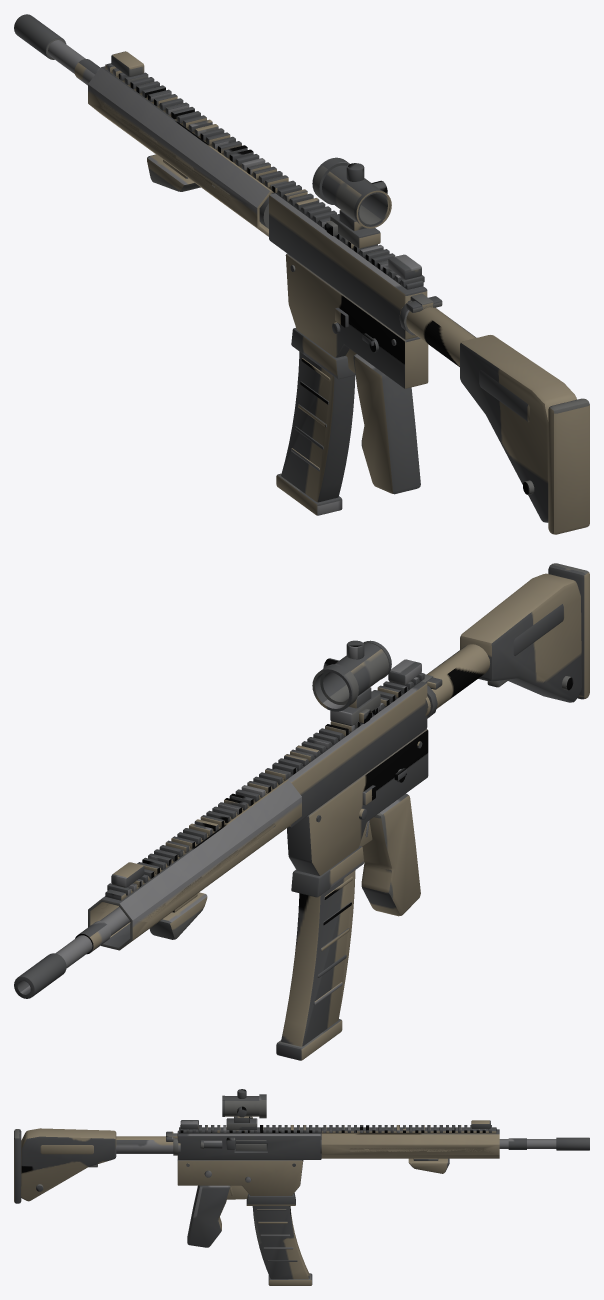
Rendered from SM_WeaponCarbine.fbx.
3 views of the same model, one above another, from view 1: azimuth 30°, elevation 25°; view 2: azimuth 150°, elevation 25°; view 3: azimuth 270°, elevation 25° (orthographic). The views are drawn at different scales.
Parts seen in each view (by area): view 1: SM_WeaponCarbine, SM_WeaponCarbine_Mag; view 2: SM_WeaponCarbine, SM_WeaponCarbine_Mag; view 3: SM_WeaponCarbine, SM_WeaponCarbine_Mag.
Part boxes in pixels (left/top/right/bottom): SM_WeaponCarbine: left=14, top=14, right=589, bottom=534; SM_WeaponCarbine_Mag: left=276, top=351, right=355, bottom=515; SM_WeaponCarbine: left=14, top=563, right=589, bottom=998; SM_WeaponCarbine_Mag: left=276, top=870, right=355, bottom=1060; SM_WeaponCarbine: left=14, top=1089, right=589, bottom=1247; SM_WeaponCarbine_Mag: left=252, top=1206, right=312, bottom=1285.
Bounding box in the file's own units: 0.0502 × 0.346 × 0.9395.
1 material, 1 textured.
